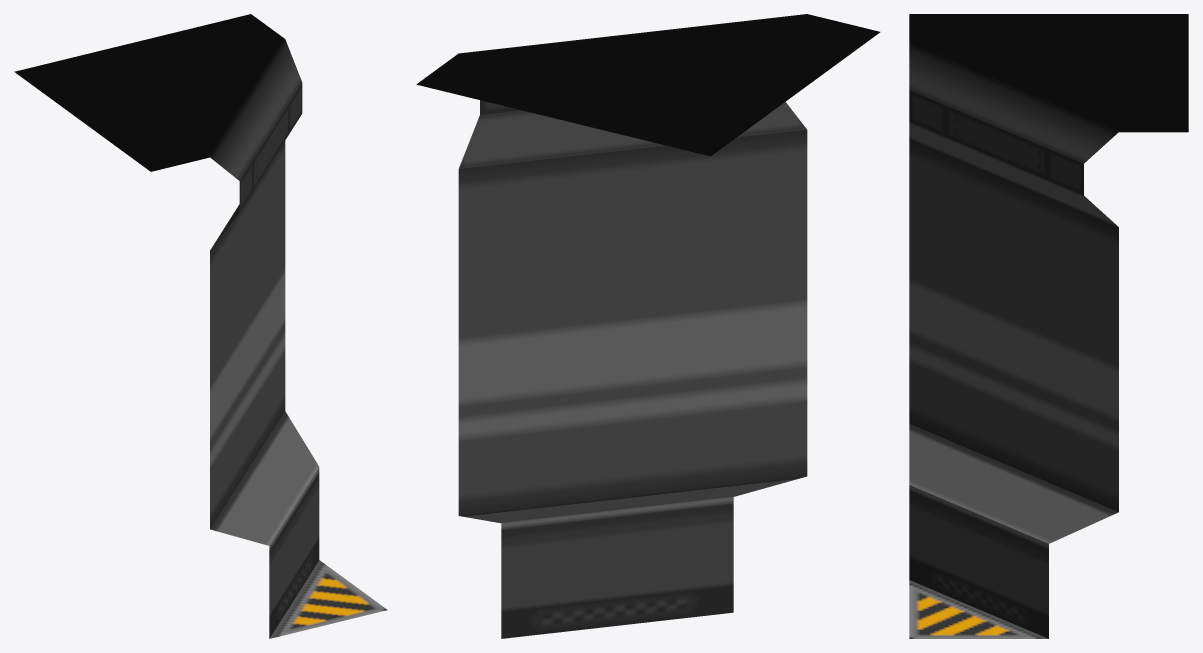
3 renders of one model, left to right at view 1: azimuth 30°, elevation 25°; view 2: azimuth 150°, elevation 25°; view 3: azimuth 270°, elevation 25°, orthographic. The views are drawn at different scales.
Visible parts, largest first — view 1: Quad_3; view 2: Quad_3; view 3: Quad_3.
Part boxes in pixels (x1,y1,x2,y2): Quad_3: (14,14,387,638); Quad_3: (416,14,880,638); Quad_3: (909,14,1188,638).
Size of the model in its own units: 200 by 400 by 200.
